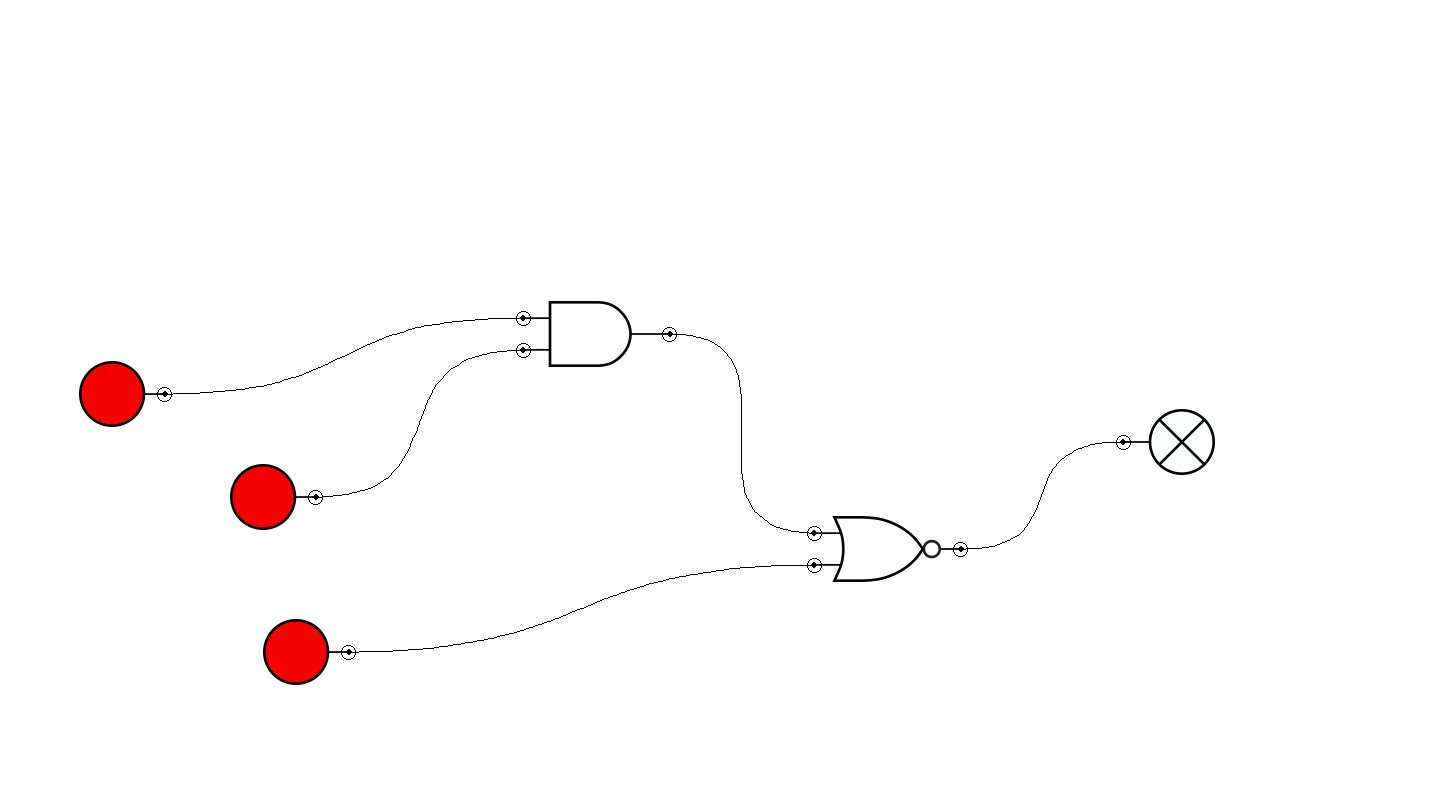and: (516, 301, 677, 367)
bulb: (1116, 409, 1215, 475)
nor: (807, 516, 968, 582)
switch_False: (79, 361, 172, 427), (263, 619, 356, 685), (230, 464, 323, 530)
